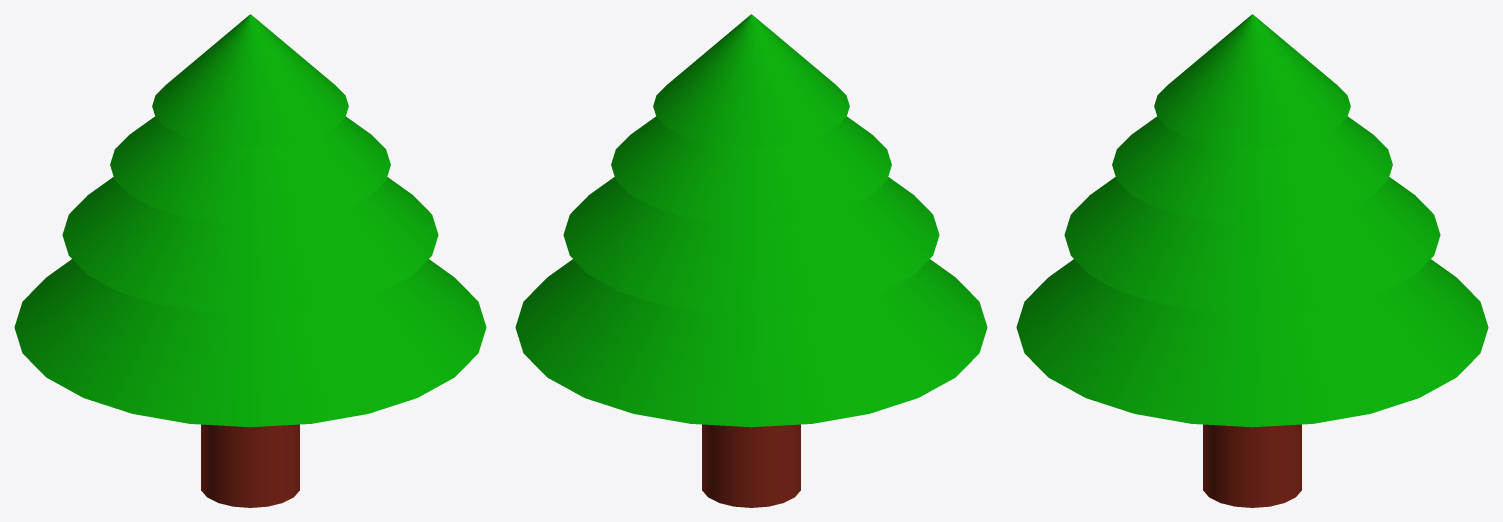
Rendered from Tree2.FBX.
3 renders of one model, left to right at view 1: azimuth 30°, elevation 25°; view 2: azimuth 150°, elevation 25°; view 3: azimuth 270°, elevation 25°, orthographic.
Parts seen in each view (by area): view 1: Cone001, Cone002, Cone003, Cone004, Cylinder001; view 2: Cone001, Cone002, Cone003, Cone004, Cylinder001; view 3: Cone001, Cone002, Cone003, Cone004, Cylinder001.
Part boxes in pixels (x1,y1,x2,y2): Cone001: (14,259,486,427); Cone002: (62,177,438,314); Cone003: (110,116,390,224); Cone004: (152,14,348,147); Cylinder001: (201,424,299,507); Cone001: (515,259,987,427); Cone002: (563,177,939,314); Cone003: (611,116,891,224); Cone004: (653,14,849,147); Cylinder001: (702,424,800,507); Cone001: (1016,259,1488,427); Cone002: (1064,177,1440,314); Cone003: (1112,116,1392,224); Cone004: (1154,14,1350,147); Cylinder001: (1203,424,1301,507).
Bounding box in the file's own units: 40.93 × 45.22 × 40.93.
